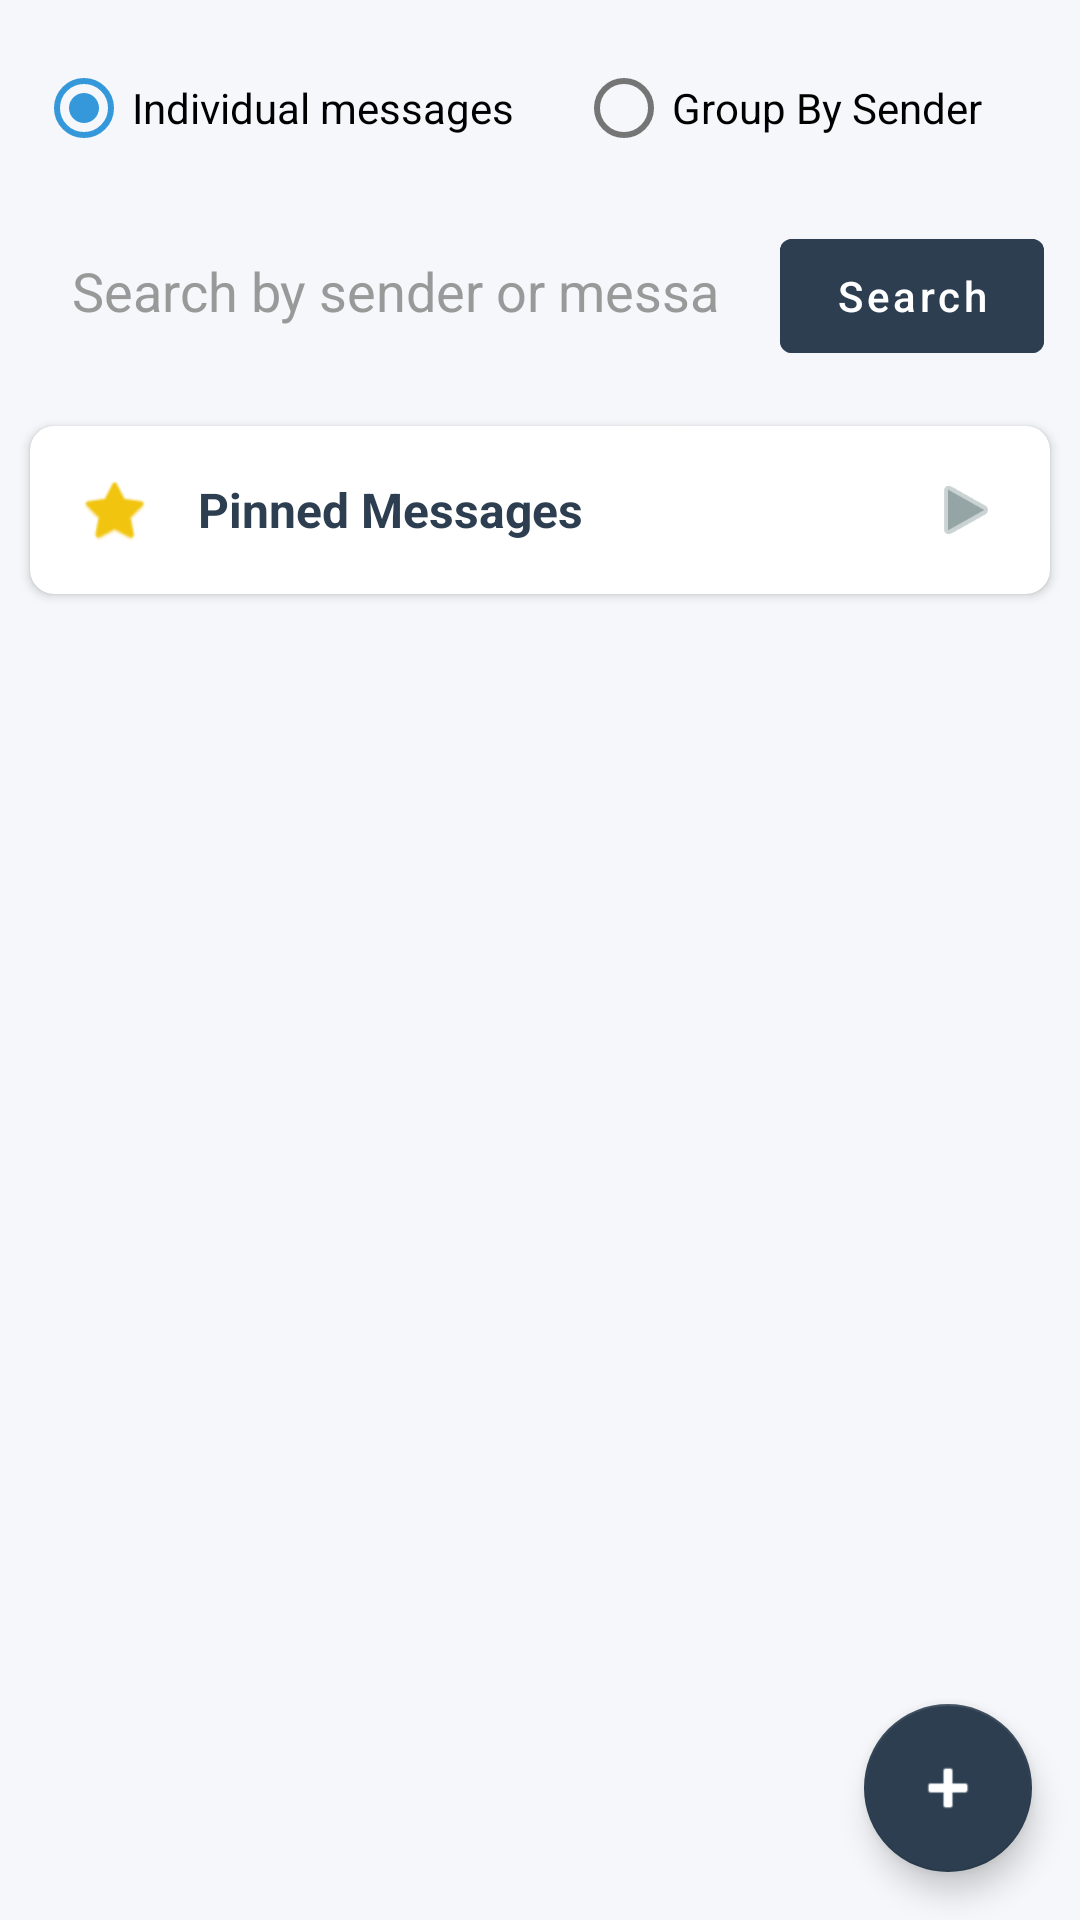

Icons on this 1080 × 1920 Android screen, each with its box as (x1, y1, x2, y2):
Compose SMS: (864, 1704, 1032, 1872)
play: (944, 486, 988, 534)
star on: (84, 481, 145, 540)
